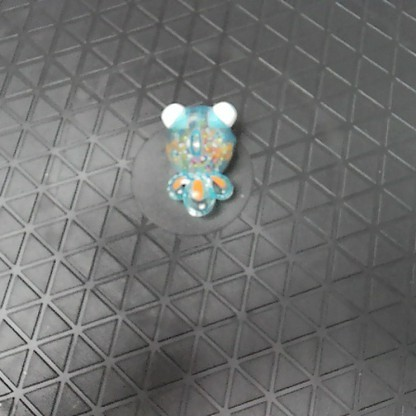bluefish: (155, 96, 244, 218)
